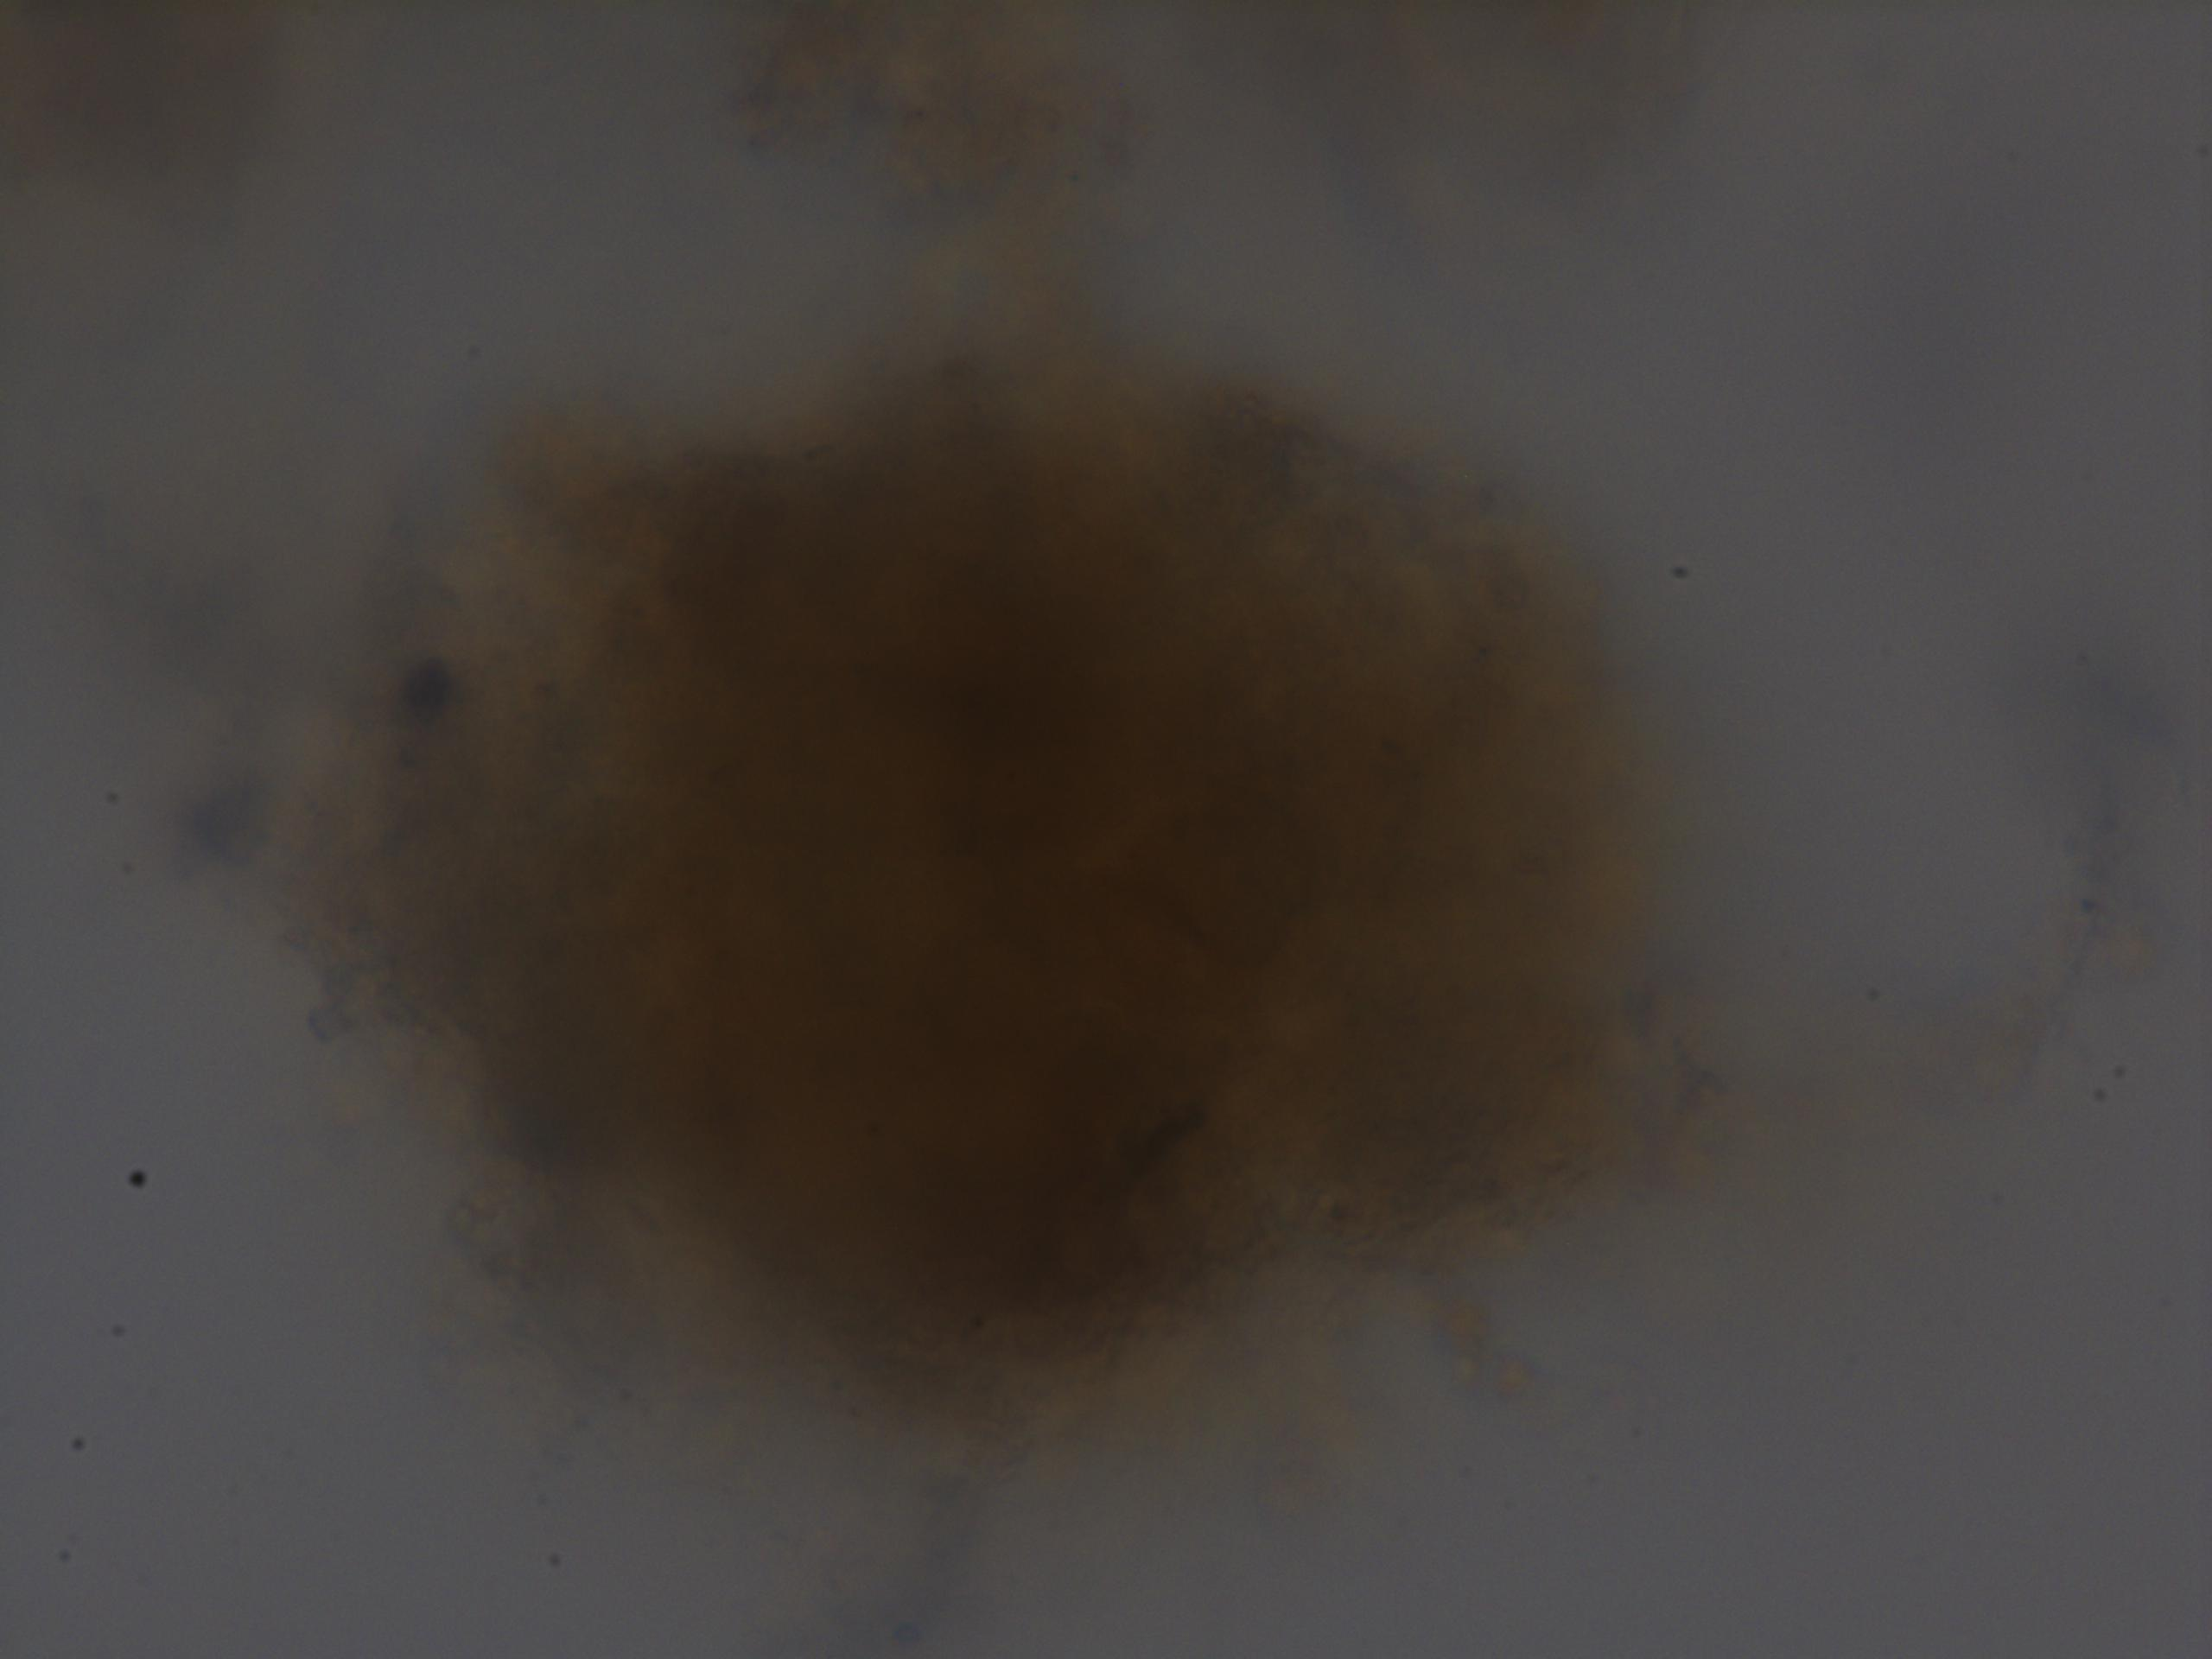spherical_floc: (287, 336, 1683, 1455)
